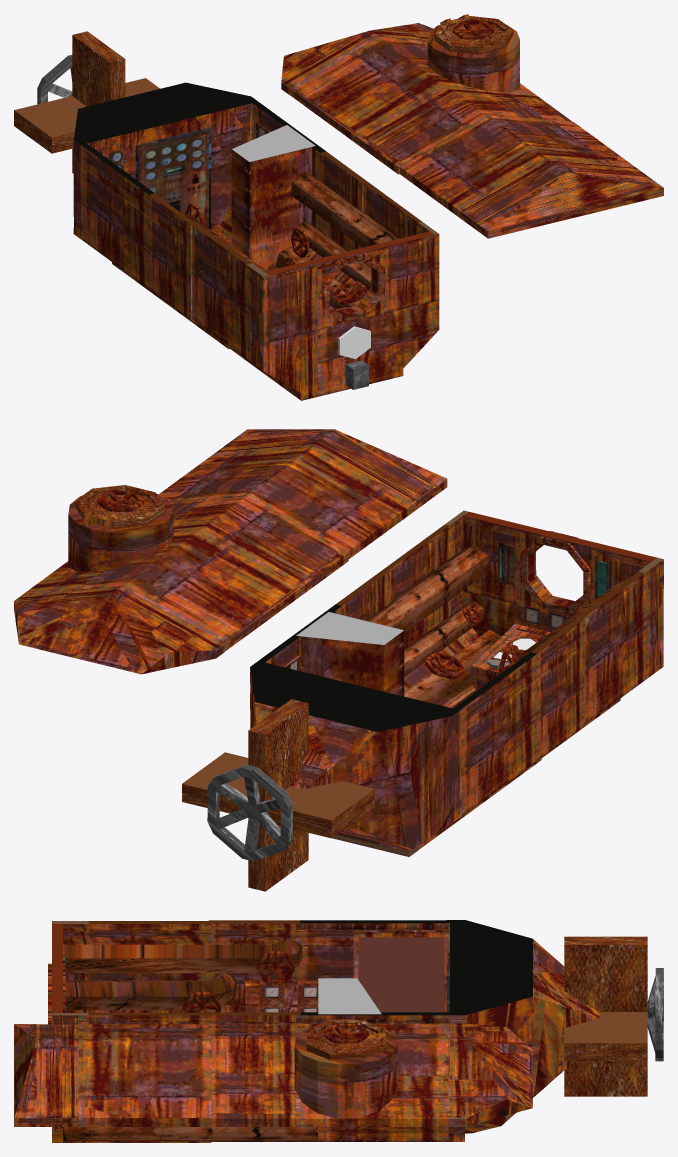
The model's file is Submarine.obj.
3 renders of one model, top to bottom at view 1: azimuth 30°, elevation 25°; view 2: azimuth 150°, elevation 25°; view 3: azimuth 270°, elevation 25°, orthographic. The views are drawn at different scales.
Visible parts, largest first — view 1: Object.9; view 2: Object.9; view 3: Object.9.
Part boxes in pixels (x1,y1,x2,y2): Object.9: (14,14,663,400); Object.9: (14,429,663,891); Object.9: (14,920,663,1142).
Size of the model in its own units: 13.29 by 6.57 by 17.58.
21 materials, 17 textured.
